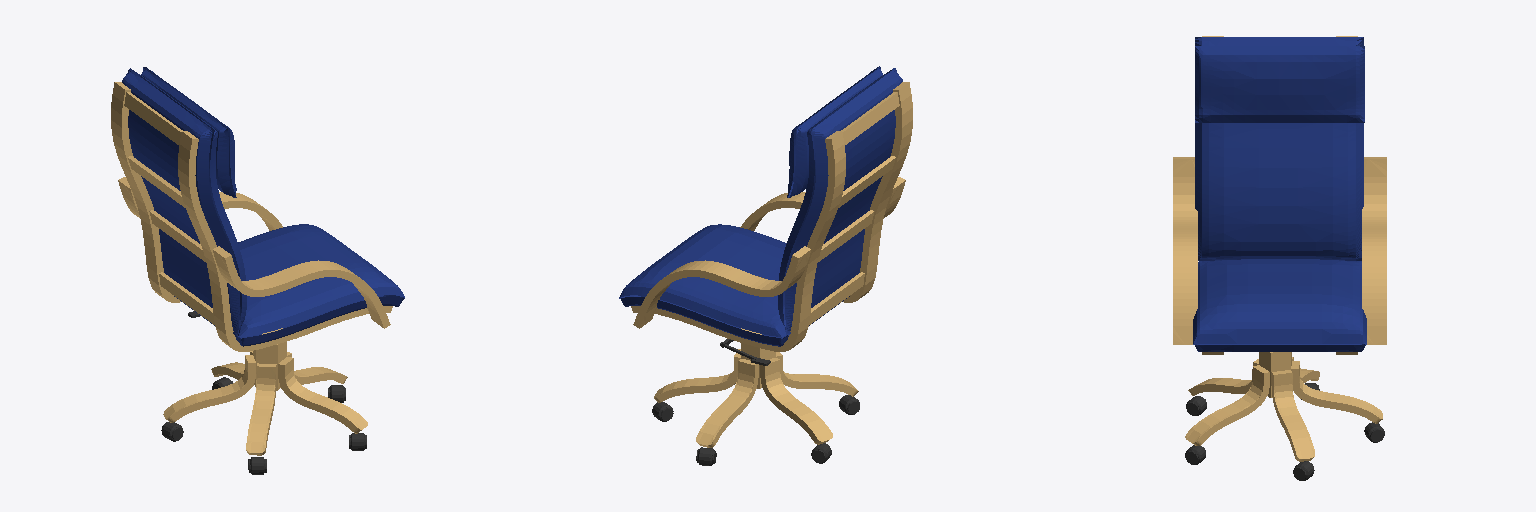
File: 11770_Chair.obj
3 views of the same model, side by side, from view 1: azimuth 30°, elevation 25°; view 2: azimuth 150°, elevation 25°; view 3: azimuth 270°, elevation 25° (orthographic).
Parts seen in each view (by area): view 1: OPERAKback, SEDAKfront, LATAleft, OPIERKAlef, LATAright, PRSTEN_019, PRSTENEC3, PRSTENEC2, PODHLA_024, OPERAKfron, SEDAKback, OPIERKArig (+6 smaller); view 2: SEDAKfront, OPERAKback, LATAright, OPIERKArig, LATAleft, PRSTENEC1, PRSTENEC2, PODHLA_024, OPERAKfron, SEDAKback, PRSTENEC4, OPIERKAlef (+5 smaller); view 3: OPERAKfron, SEDAKfront, PODHLAVNIK, OPIERKArig, OPIERKAlef, PRSTEN_019, PRSTENEC4, PRSTENEC1, SEDAKback, PRSTENEC3, PETHRANdow.
Boxes of the visible parts, x1,y1,x2,y2 form: OPERAKback: [122, 69, 239, 336]; SEDAKfront: [238, 224, 404, 337]; LATAleft: [178, 131, 392, 351]; OPIERKAlef: [213, 246, 390, 328]; LATAright: [111, 82, 180, 302]; PRSTEN_019: [278, 357, 367, 433]; PRSTENEC3: [246, 363, 276, 455]; PRSTENEC2: [163, 355, 255, 422]; PODHLA_024: [141, 67, 234, 197]; OPERAKfron: [130, 68, 246, 335]; SEDAKback: [174, 295, 404, 346]; OPIERKArig: [118, 177, 282, 230]; SEDAKfront: [619, 224, 786, 337]; OPERAKback: [785, 68, 902, 335]; LATAright: [631, 131, 845, 351]; OPIERKArig: [633, 246, 810, 328]; LATAleft: [843, 82, 912, 302]; PRSTENEC1: [696, 359, 758, 447]; PRSTENEC2: [760, 358, 832, 444]; PODHLA_024: [789, 67, 882, 197]; OPERAKfron: [778, 68, 894, 334]; SEDAKback: [619, 295, 849, 346]; PRSTENEC4: [654, 349, 740, 402]; OPIERKAlef: [740, 177, 905, 230]; OPERAKfron: [1195, 37, 1363, 260]; SEDAKfront: [1193, 259, 1366, 343]; PODHLAVNIK: [1195, 46, 1364, 122]; OPIERKArig: [1362, 157, 1386, 344]; OPIERKAlef: [1173, 157, 1197, 344]; PRSTEN_019: [1185, 365, 1269, 445]; PRSTENEC4: [1271, 370, 1314, 461]; PRSTENEC1: [1291, 361, 1382, 423]; SEDAKback: [1193, 344, 1366, 351]; PRSTENEC3: [1188, 359, 1258, 395]; PETHRANdow: [1259, 352, 1291, 397].
Bounding box in the file's own units: 682 × 1090 × 595.